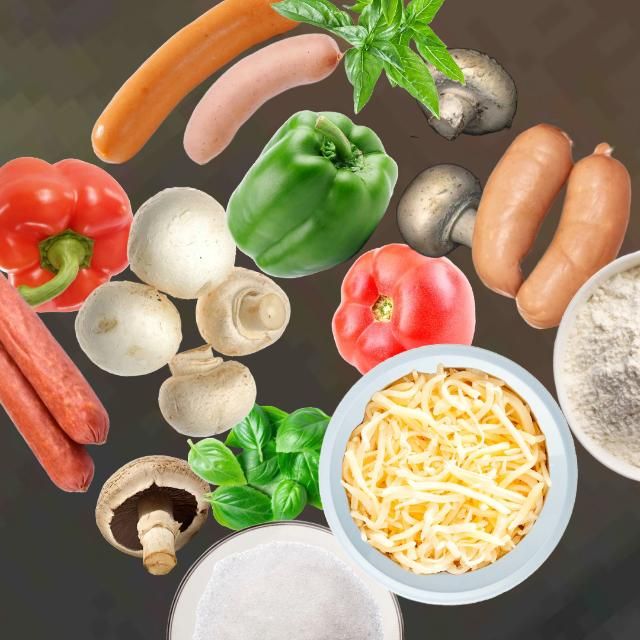Flour: (560, 265, 639, 468)
Sugar: (191, 539, 383, 639)
